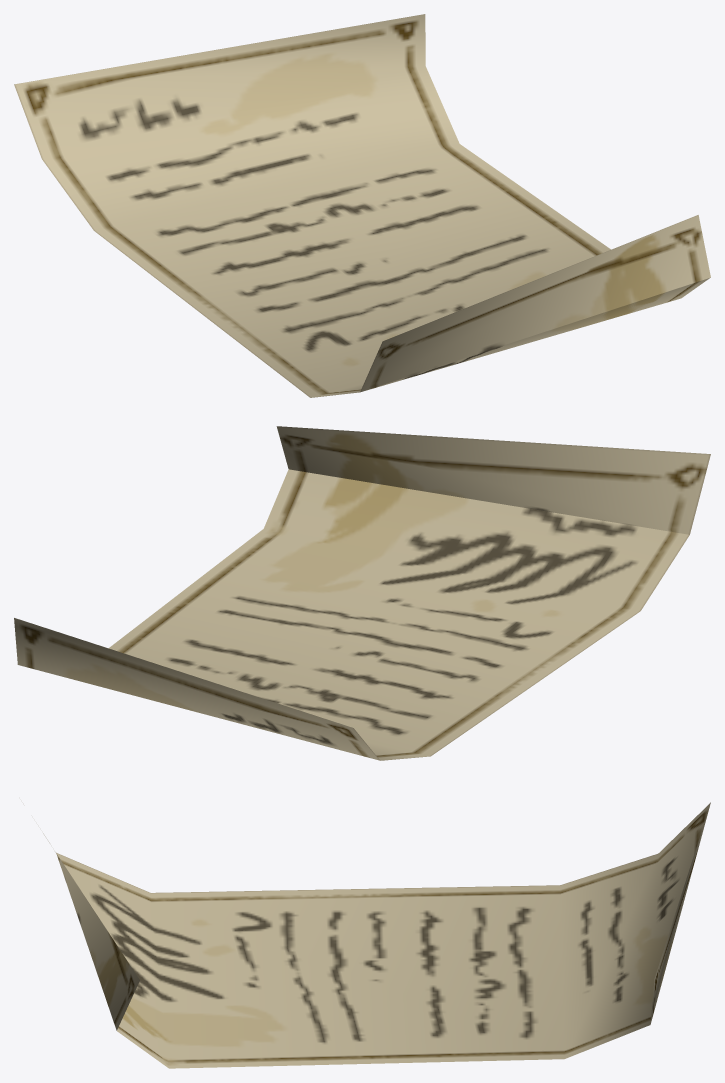
File: SM_PROP_scroll_dungeon_03.fbx
3 views of the same model, one above another, from view 1: azimuth 30°, elevation 25°; view 2: azimuth 150°, elevation 25°; view 3: azimuth 270°, elevation 25° (orthographic). The views are drawn at different scales.
Visible parts, largest first — view 1: SM_PROP_scroll_dungeon_03; view 2: SM_PROP_scroll_dungeon_03; view 3: SM_PROP_scroll_dungeon_03.
Boxes of the visible parts, <box> form: SM_PROP_scroll_dungeon_03: <box>14,14,710,397</box>; SM_PROP_scroll_dungeon_03: <box>14,426,710,760</box>; SM_PROP_scroll_dungeon_03: <box>43,802,710,1068</box>.
Bounding box in the file's own units: 27.66 × 7.59 × 46.16.
